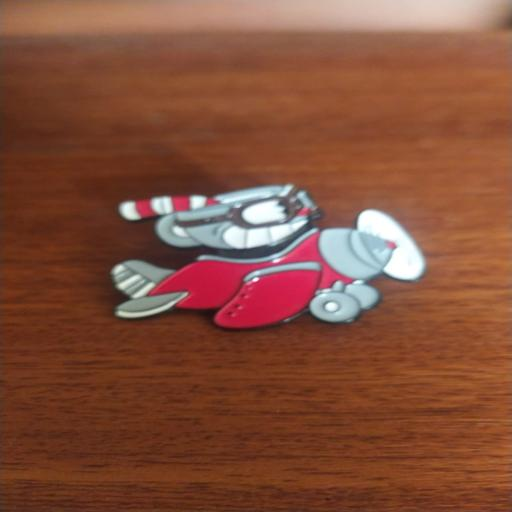Pin: (92, 175, 438, 338)
